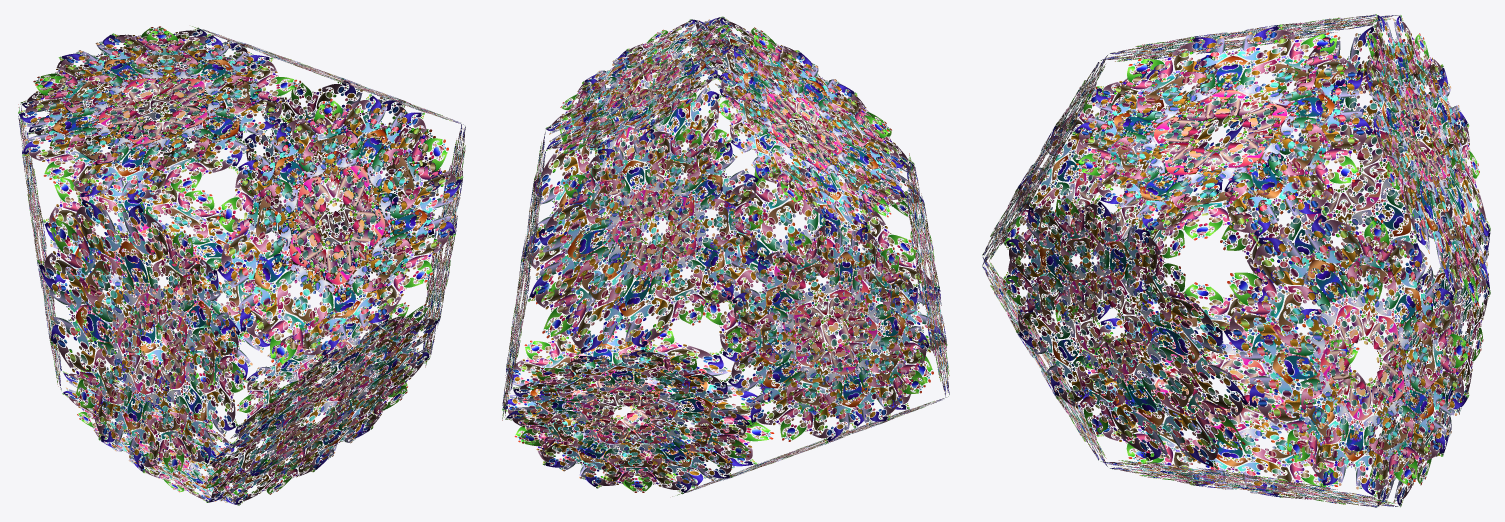
Rendered from Tetartoid12.obj.
The picture shows the model from 3 angles, left to right: view 1: azimuth 30°, elevation 25°; view 2: azimuth 150°, elevation 25°; view 3: azimuth 270°, elevation 25°; orthographic projection. The views are drawn at different scales.
Bounding box in the file's own units: 22 × 22 × 22.
Materials: 1 (1 with a texture image).
